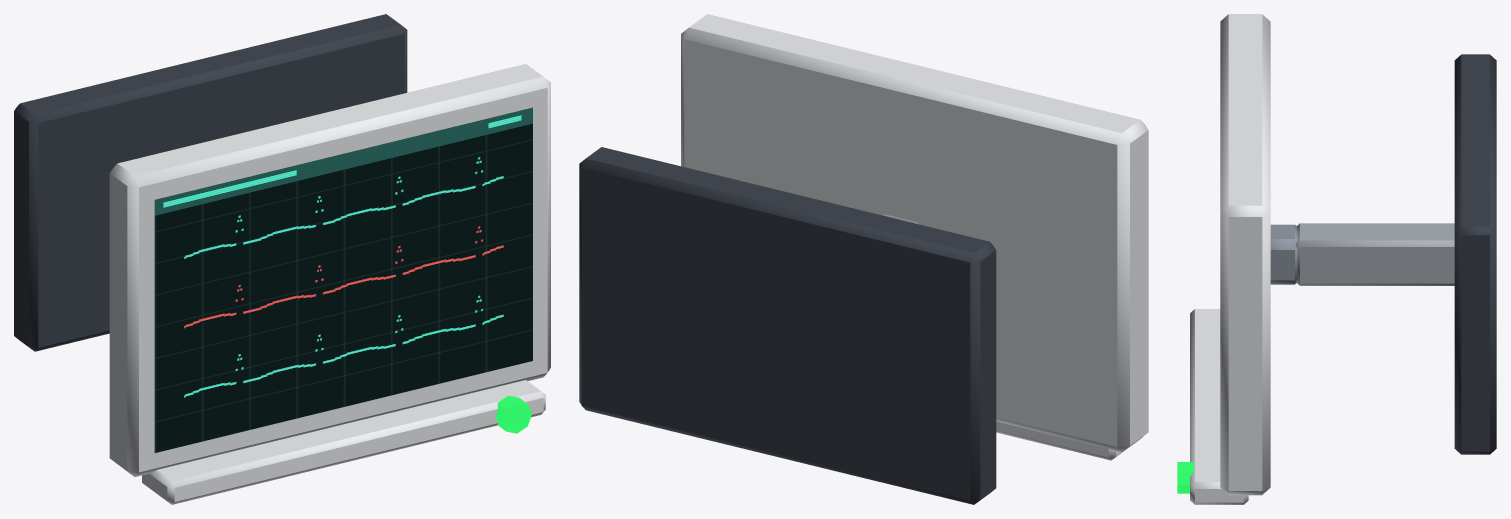
File: display_vitals_monitor.glb
3 renders of one model, left to right at view 1: azimuth 30°, elevation 25°; view 2: azimuth 150°, elevation 25°; view 3: azimuth 270°, elevation 25°, orthographic. The views are drawn at different scales.
Visible parts, largest first — view 1: display_vitals_monitor; view 2: display_vitals_monitor; view 3: display_vitals_monitor.
Boxes of the visible parts, x1,y1,x2,y2 form: display_vitals_monitor: (14, 14, 550, 504); display_vitals_monitor: (579, 14, 1148, 504); display_vitals_monitor: (1177, 14, 1496, 504).
Size of the model in its own units: 0.56 by 0.41 by 0.38.
6 materials, 1 textured.
